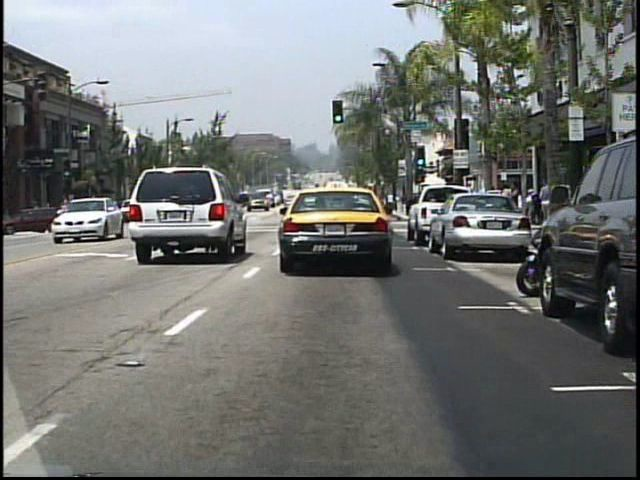person: (504, 179, 523, 233), (535, 180, 553, 227)
